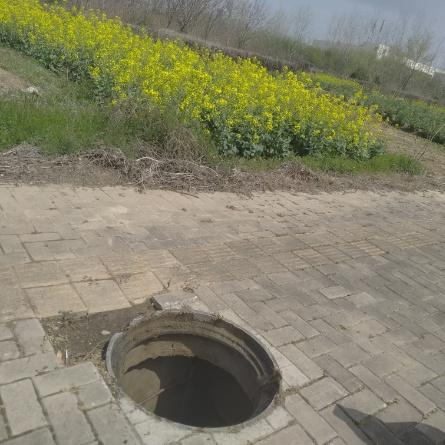wellcover: (86, 292, 294, 430)
